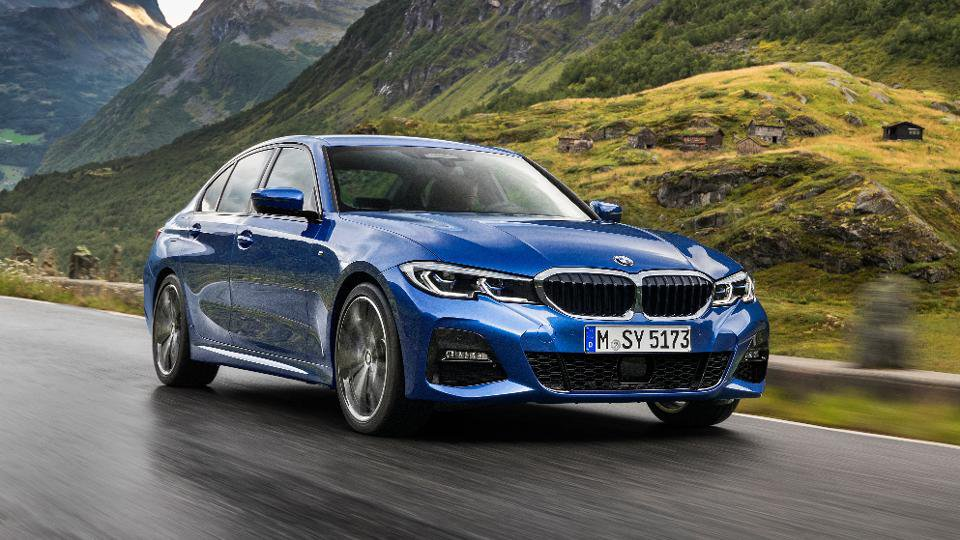car: (139, 132, 768, 419)
